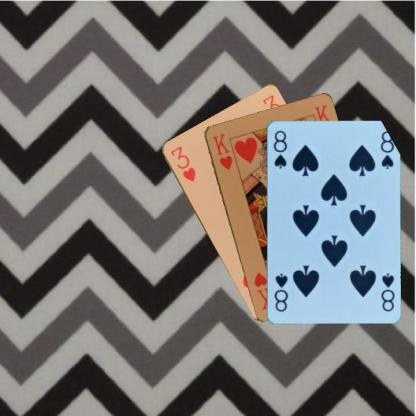3h: (168, 143, 196, 183)
8s: (270, 127, 288, 170), (378, 270, 396, 312)
Kh: (210, 130, 233, 172)
